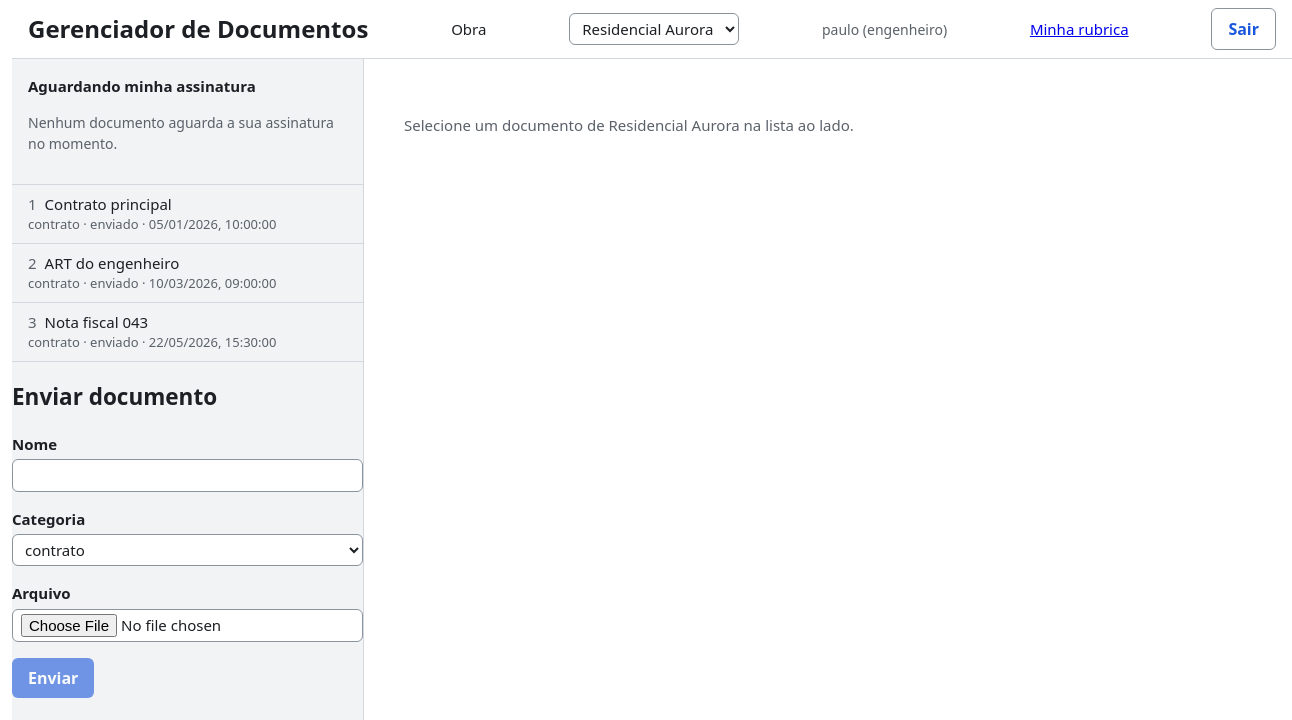
Test: shell no modelo do SEI › renderiza o documento selecionado ao lado sem recarregar a pagina
Expected: the text "Selecione um documento" is shown, x1=404 y1=115 x2=854 y2=135
Click the button "2ART do engenheiro contrato · enviado · 10/03/2026, 09:00:00" at (188, 272), box x1=12 y1=244 x2=363 y2=302
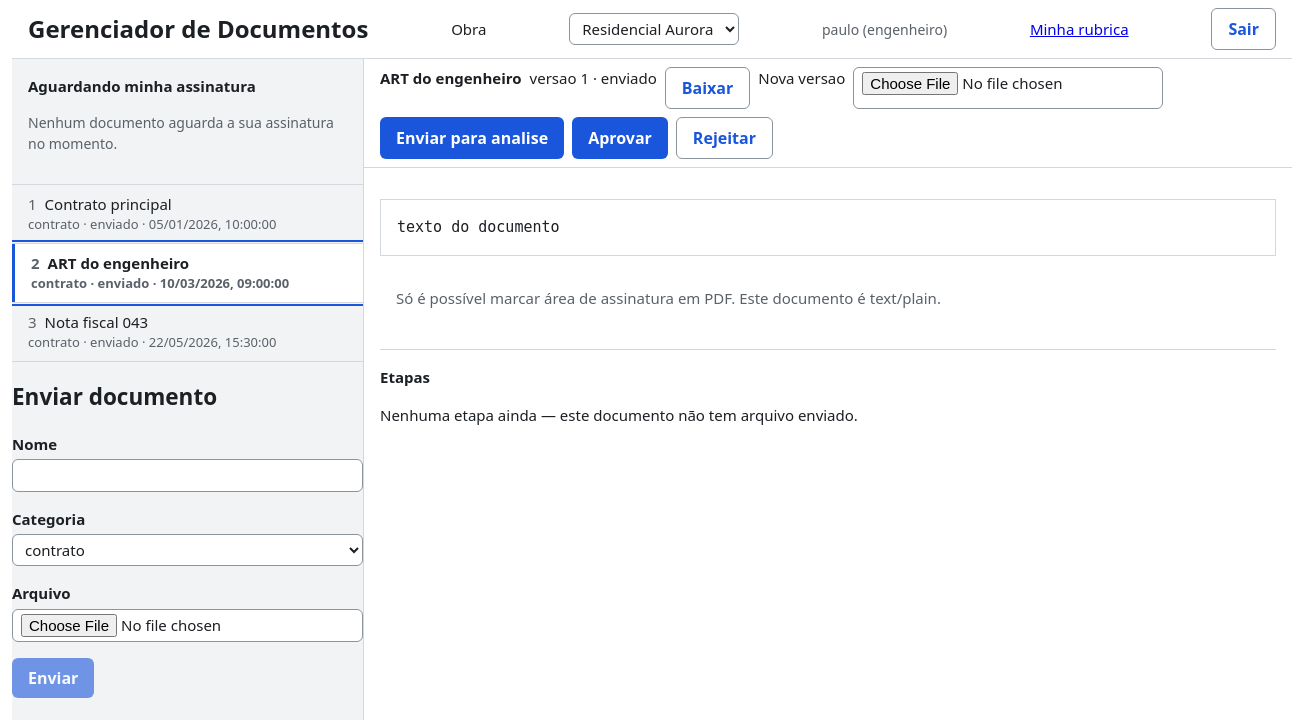
Expected: the number of list items is 3, x1=12 y1=184 x2=363 y2=244; x1=12 y1=244 x2=363 y2=302; x1=12 y1=302 x2=363 y2=362
Result: the text "ART do engenheiro" is shown at x1=380 y1=68 x2=522 y2=88
